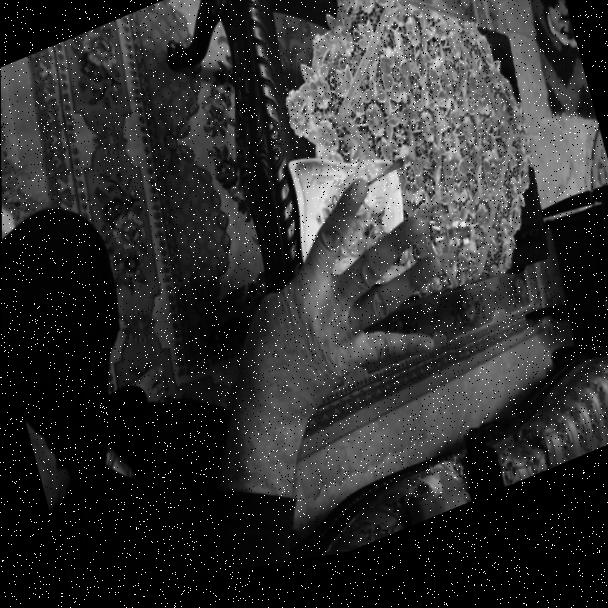four: (190, 150, 476, 483)
